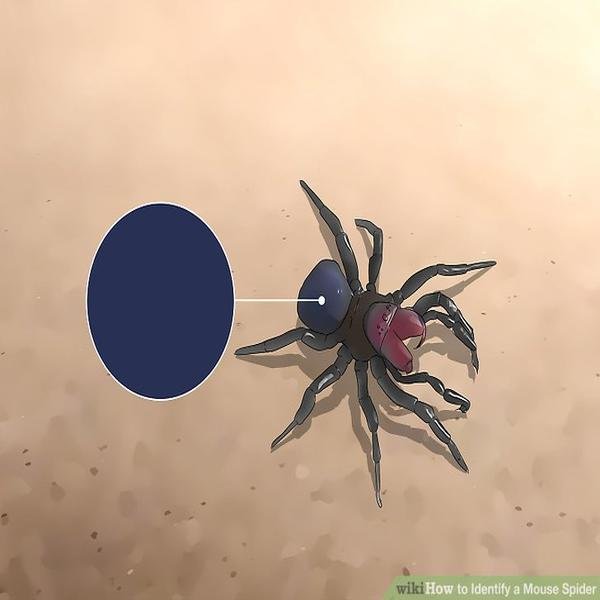Red Headed Mouse Spider: (244, 186, 489, 495)
